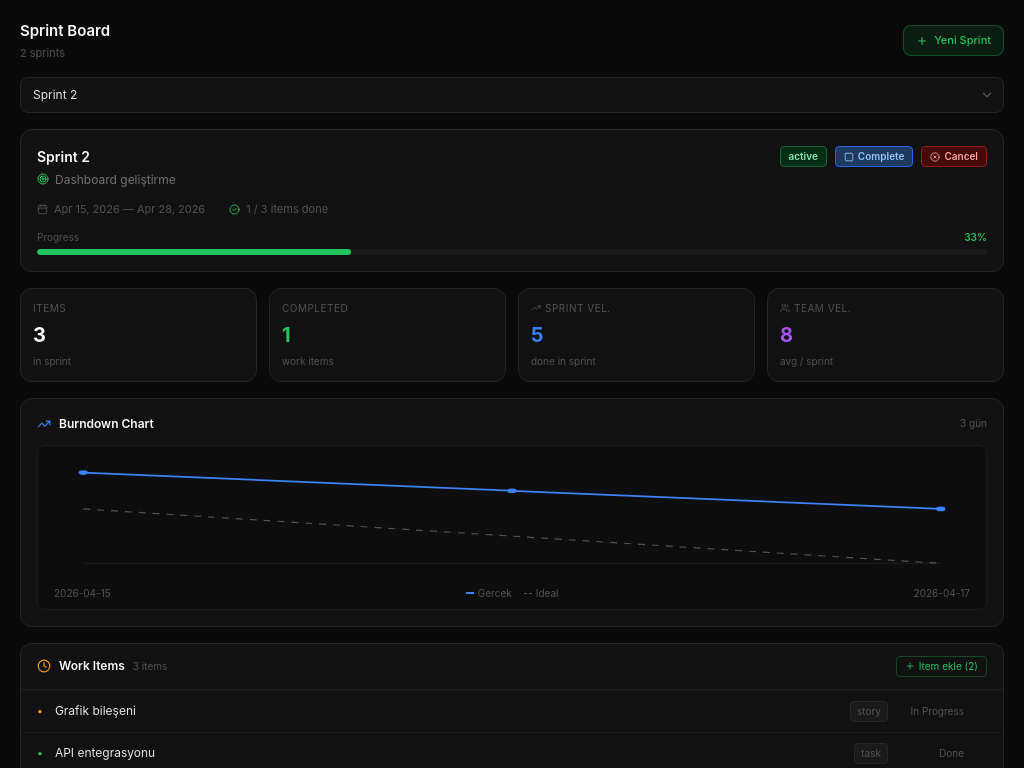
it: SprintBoard — CreateSprintModal › boş isim ile sprint oluşturmaya çalışınca hata gösterilmeli
Click the button "Yeni Sprint" at (954, 41), box [903, 25, 1004, 56]
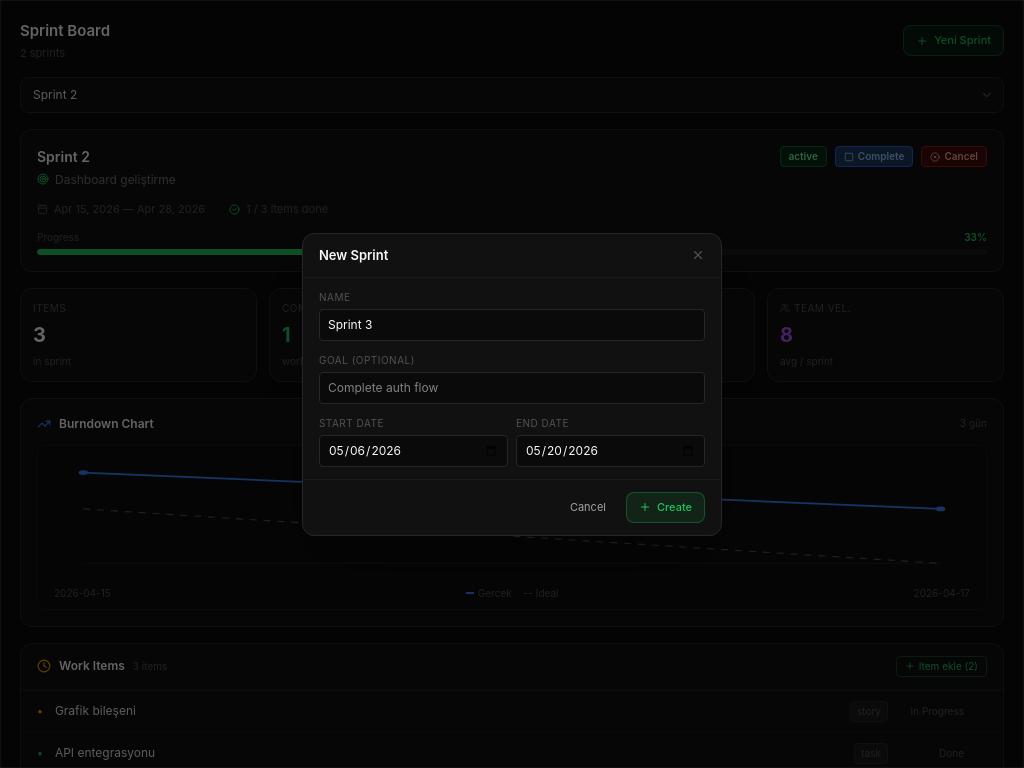
İsim alanını temizle
Clear the field with placeholder "Sprint 1" at (512, 325), box [319, 309, 705, 341]
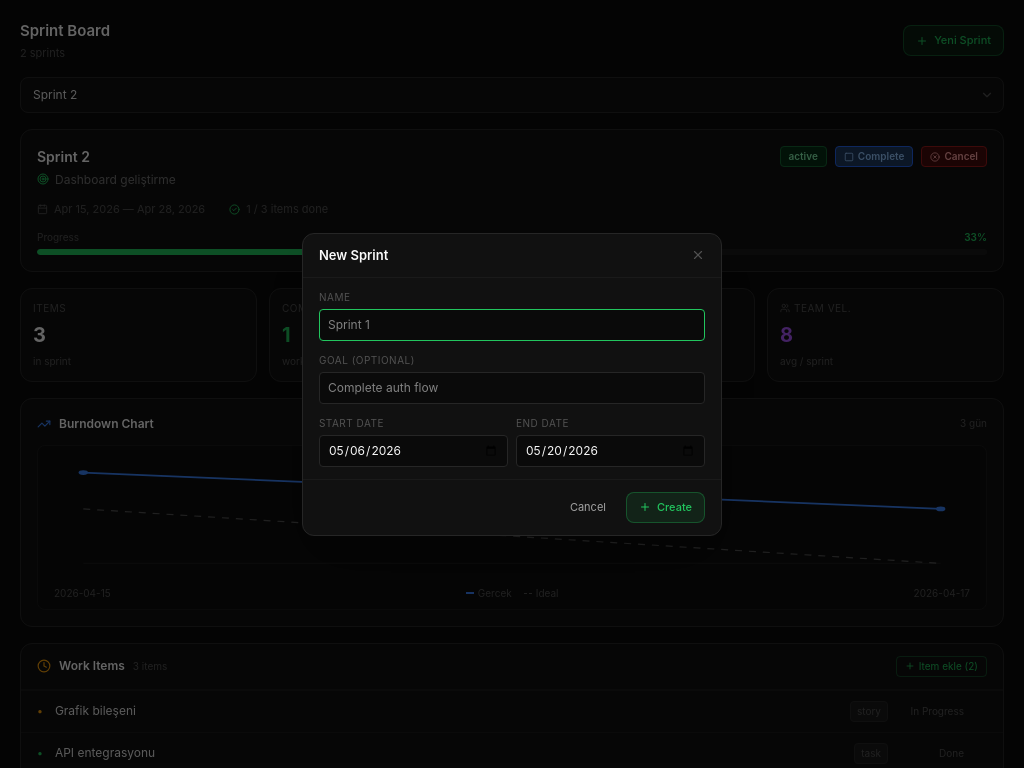
Click the button "Create" at (666, 507), box [626, 492, 705, 522]
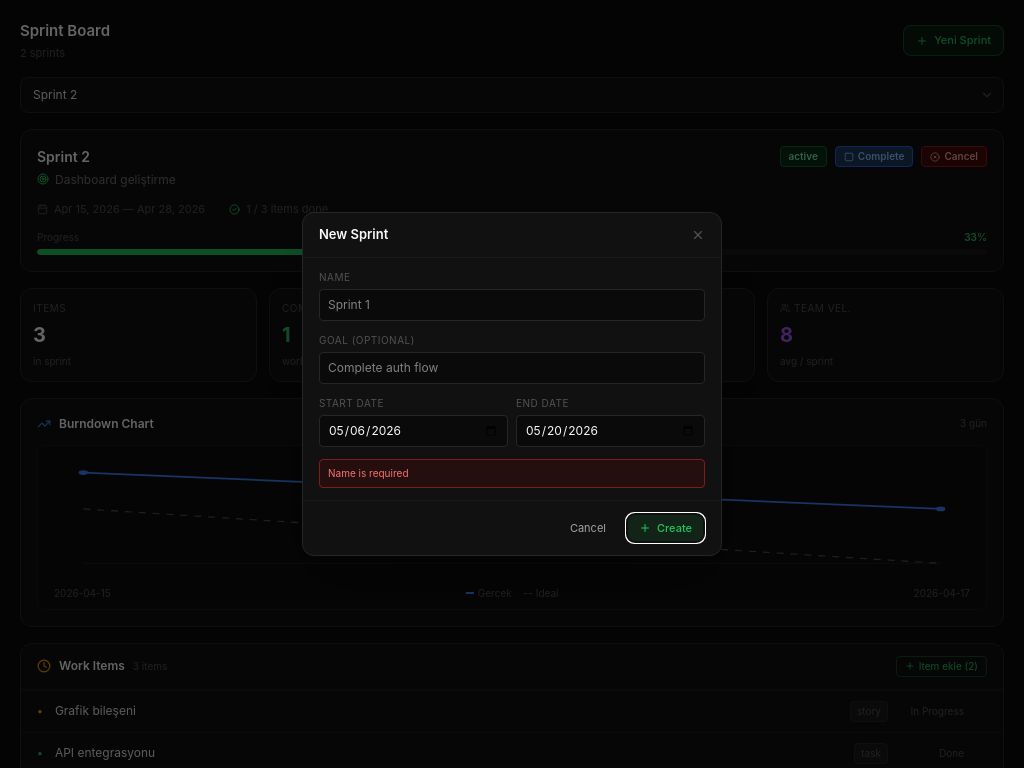
Check: the text "Name is required" is shown, box [319, 458, 705, 488]
